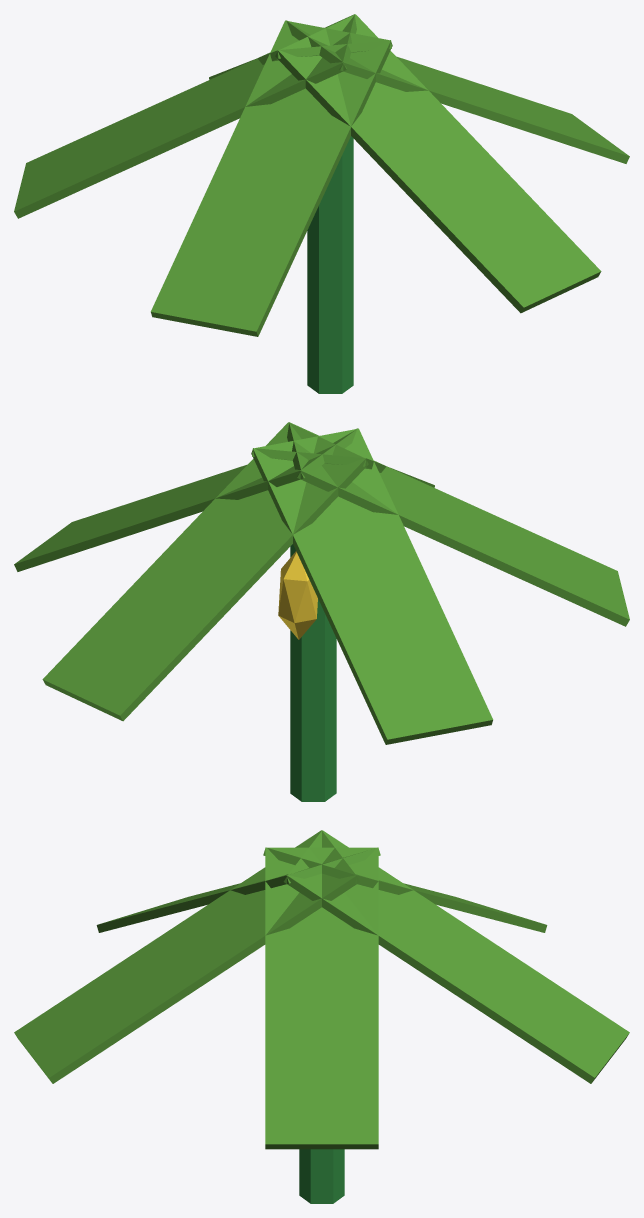
File: banana_plant.glb
The picture shows the model from 3 angles, top to bottom: view 1: azimuth 30°, elevation 25°; view 2: azimuth 150°, elevation 25°; view 3: azimuth 270°, elevation 25°; orthographic projection. The views are drawn at different scales.
Parts seen in each view (by area): view 1: banana_plant; view 2: banana_plant; view 3: banana_plant.
Boxes of the visible parts, left/top/right/bottom form: banana_plant: left=14, top=14, right=629, bottom=393; banana_plant: left=14, top=422, right=629, bottom=801; banana_plant: left=14, top=830, right=629, bottom=1203.
Bounding box in the file's own units: 2.07 × 1.32 × 2.17.
